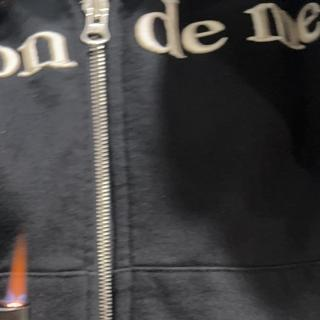fire: (1, 237, 34, 303)
